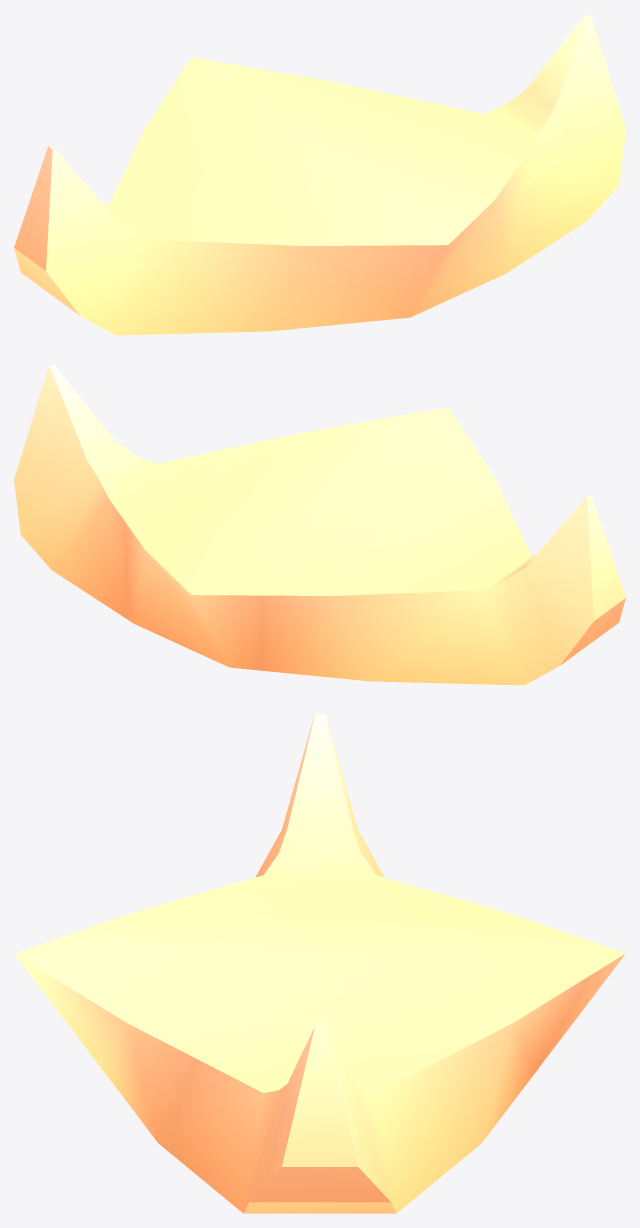
File: wood_guard_070_004.glb
3 views of the same model, one above another, from view 1: azimuth 30°, elevation 25°; view 2: azimuth 150°, elevation 25°; view 3: azimuth 270°, elevation 25° (orthographic). The views are drawn at different scales.
Visible parts, largest first — view 1: wood_guard_070.004; view 2: wood_guard_070.004; view 3: wood_guard_070.004.
Part boxes in pixels (<box>): wood_guard_070.004: <box>14,14,625,335</box>; wood_guard_070.004: <box>14,364,625,685</box>; wood_guard_070.004: <box>14,714,625,1213</box>.
Bounding box in the file's own units: 4.04 × 1.15 × 3.1.
1 material, 1 textured.
